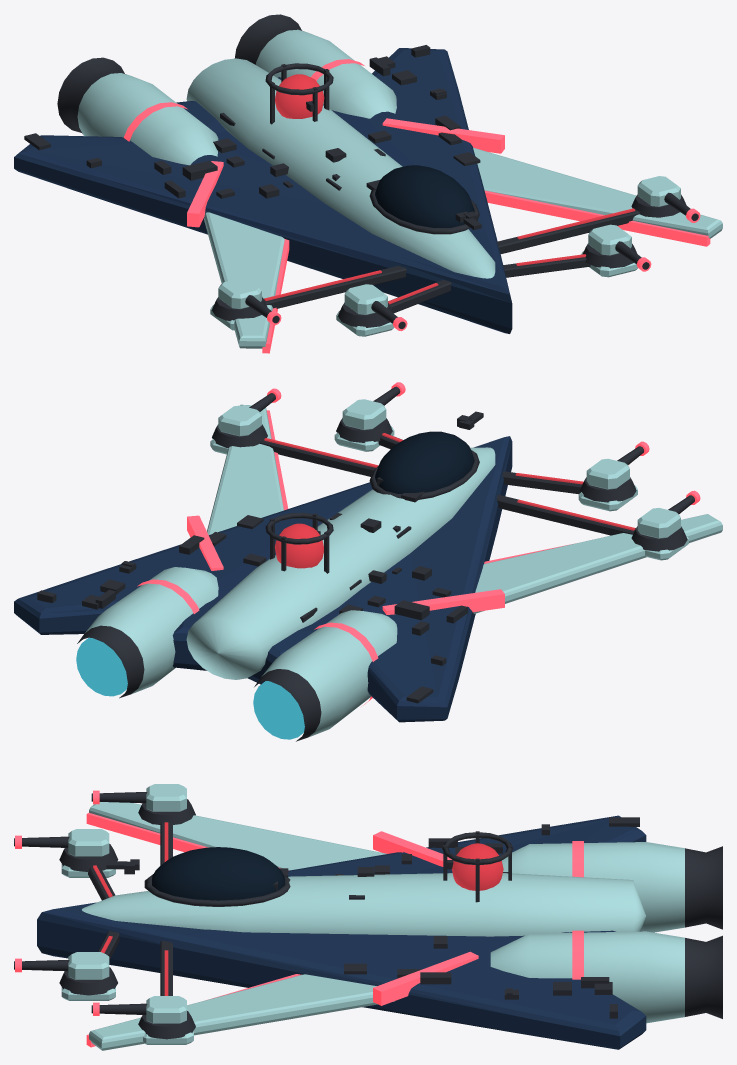
File: ship_kestrel.glb
The picture shows the model from 3 angles, top to bottom: view 1: azimuth 30°, elevation 25°; view 2: azimuth 150°, elevation 25°; view 3: azimuth 270°, elevation 25°; orthographic projection. The views are drawn at different scales.
Parts seen in each view (by area): view 1: secondary, primary, trim, accent, glass, glow; view 2: secondary, primary, trim, glass, engine, accent, glow; view 3: secondary, primary, trim, glass, accent, glow.
Boxes of the visible parts, left/top/right/bottom form: secondary: left=77, top=29, right=722, bottom=348; primary: left=14, top=48, right=512, bottom=333; trim: left=24, top=14, right=698, bottom=328; accent: left=123, top=59, right=710, bottom=353; glass: left=375, top=165, right=474, bottom=227; glow: left=264, top=74, right=635, bottom=304; secondary: left=84, top=399, right=722, bottom=737; primary: left=14, top=436, right=512, bottom=722; trim: left=37, top=386, right=694, bottom=741; glass: left=375, top=431, right=474, bottom=493; engine: left=76, top=637, right=304, bottom=739; accent: left=137, top=382, right=700, bottom=706; glow: left=264, top=433, right=635, bottom=568; secondary: left=61, top=784, right=684, bottom=1050; primary: left=37, top=815, right=646, bottom=1049; trim: left=14, top=792, right=722, bottom=1039; glass: left=152, top=847, right=284, bottom=900; accent: left=15, top=790, right=583, bottom=1047; glow: left=93, top=822, right=503, bottom=995.
Size of the model in its own units: 2.68 by 0.6625 by 3.28.
